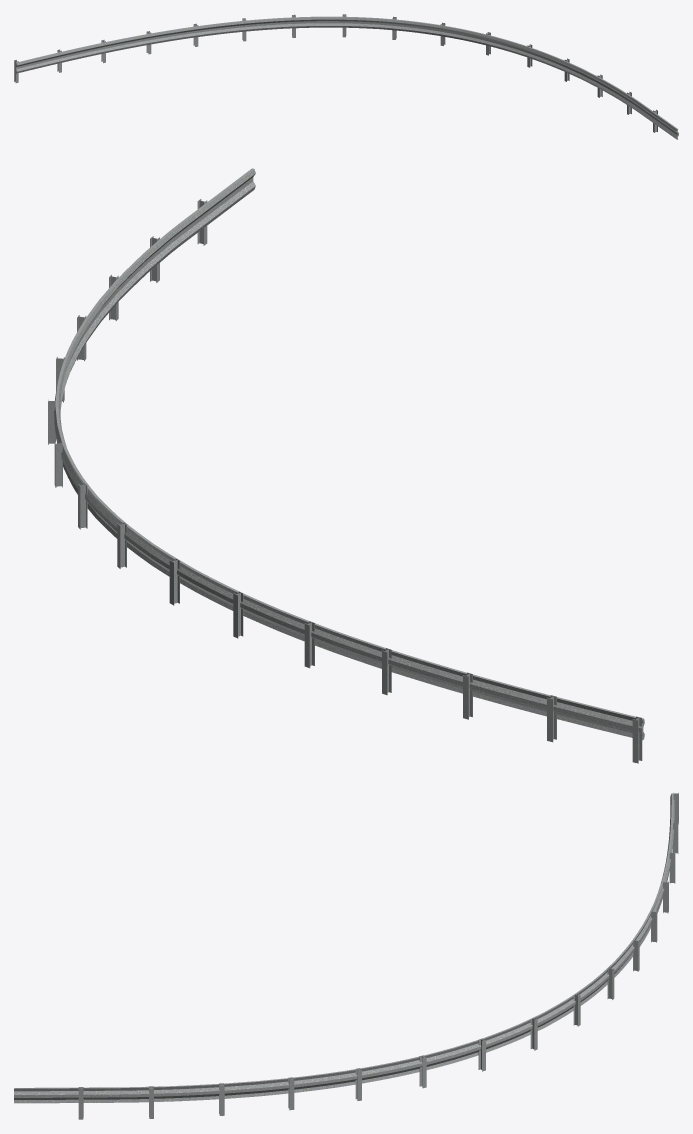
Rendered from Classic64_GuardRailExample_Model.fbx.
3 renders of one model, top to bottom at view 1: azimuth 30°, elevation 25°; view 2: azimuth 150°, elevation 25°; view 3: azimuth 270°, elevation 25°, orthographic. The views are drawn at different scales.
Parts seen in each view (by area): view 1: Classic64_GuardRailExample_Part000; view 2: Classic64_GuardRailExample_Part000; view 3: Classic64_GuardRailExample_Part000.
Boxes of the visible parts, bbox=[...] form: Classic64_GuardRailExample_Part000: bbox=[14, 14, 678, 139]; Classic64_GuardRailExample_Part000: bbox=[48, 168, 644, 763]; Classic64_GuardRailExample_Part000: bbox=[14, 792, 678, 1119].
Size of the model in its own units: 21 by 1 by 19.85.
